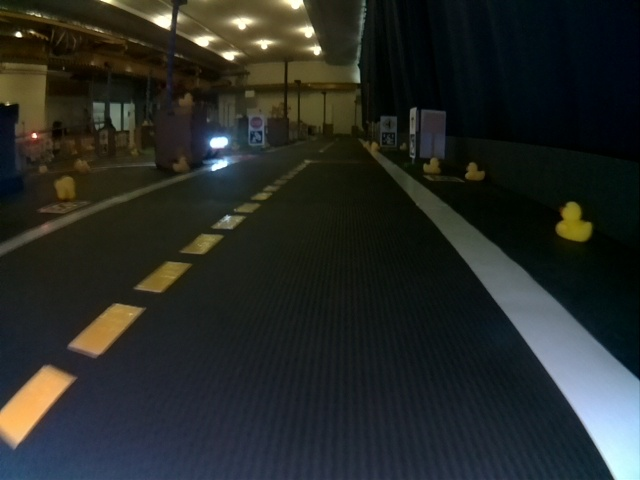Duckie: (559, 202, 591, 241), (55, 176, 76, 199), (466, 162, 485, 179), (174, 156, 189, 171), (425, 158, 439, 172), (77, 160, 89, 171), (178, 93, 187, 101), (370, 142, 379, 150)
Intersection sign: (410, 112, 418, 131), (383, 122, 392, 131)
QR code: (41, 200, 86, 212), (409, 135, 419, 156), (250, 133, 262, 144), (383, 136, 391, 146)
Stop sign: (252, 116, 264, 128)
